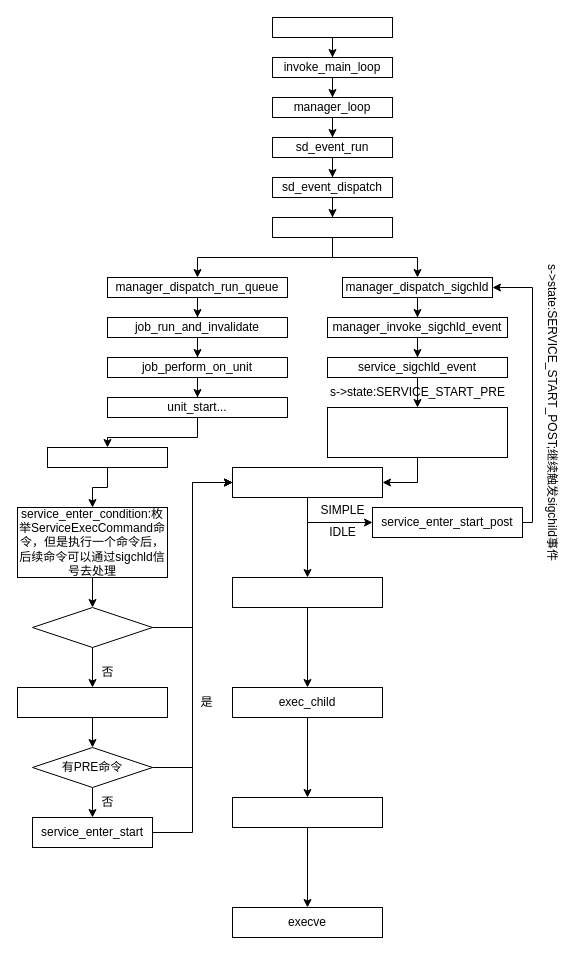
This 585x955 diagram has some shape labels left out. Here are the shapes that lost their labels. From the top down, the centre of each, then its label:
At point (332, 27): "main".
At point (332, 227): "source_dispatch".
At point (417, 432): "service_enter_start:例如左边执行完ExecStartPre，现在准备执行ExecStart".
At point (107, 457): "service_start".
At point (307, 482): "service_spawn".
At point (307, 592): "exec_spawn".
At point (92, 627): "有CONDITION命令".
At point (92, 702): "service_enter_start_pre".
At point (307, 812): "fexecve_or_execve".
